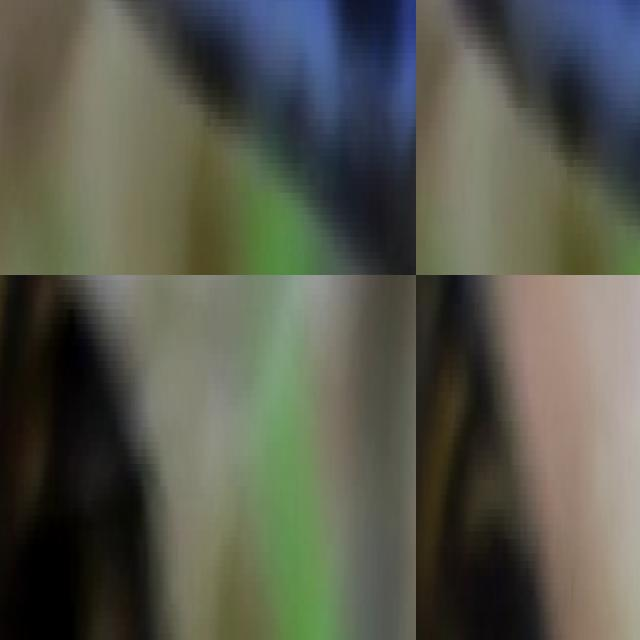fish: (0, 0, 416, 275), (416, 0, 640, 275)
